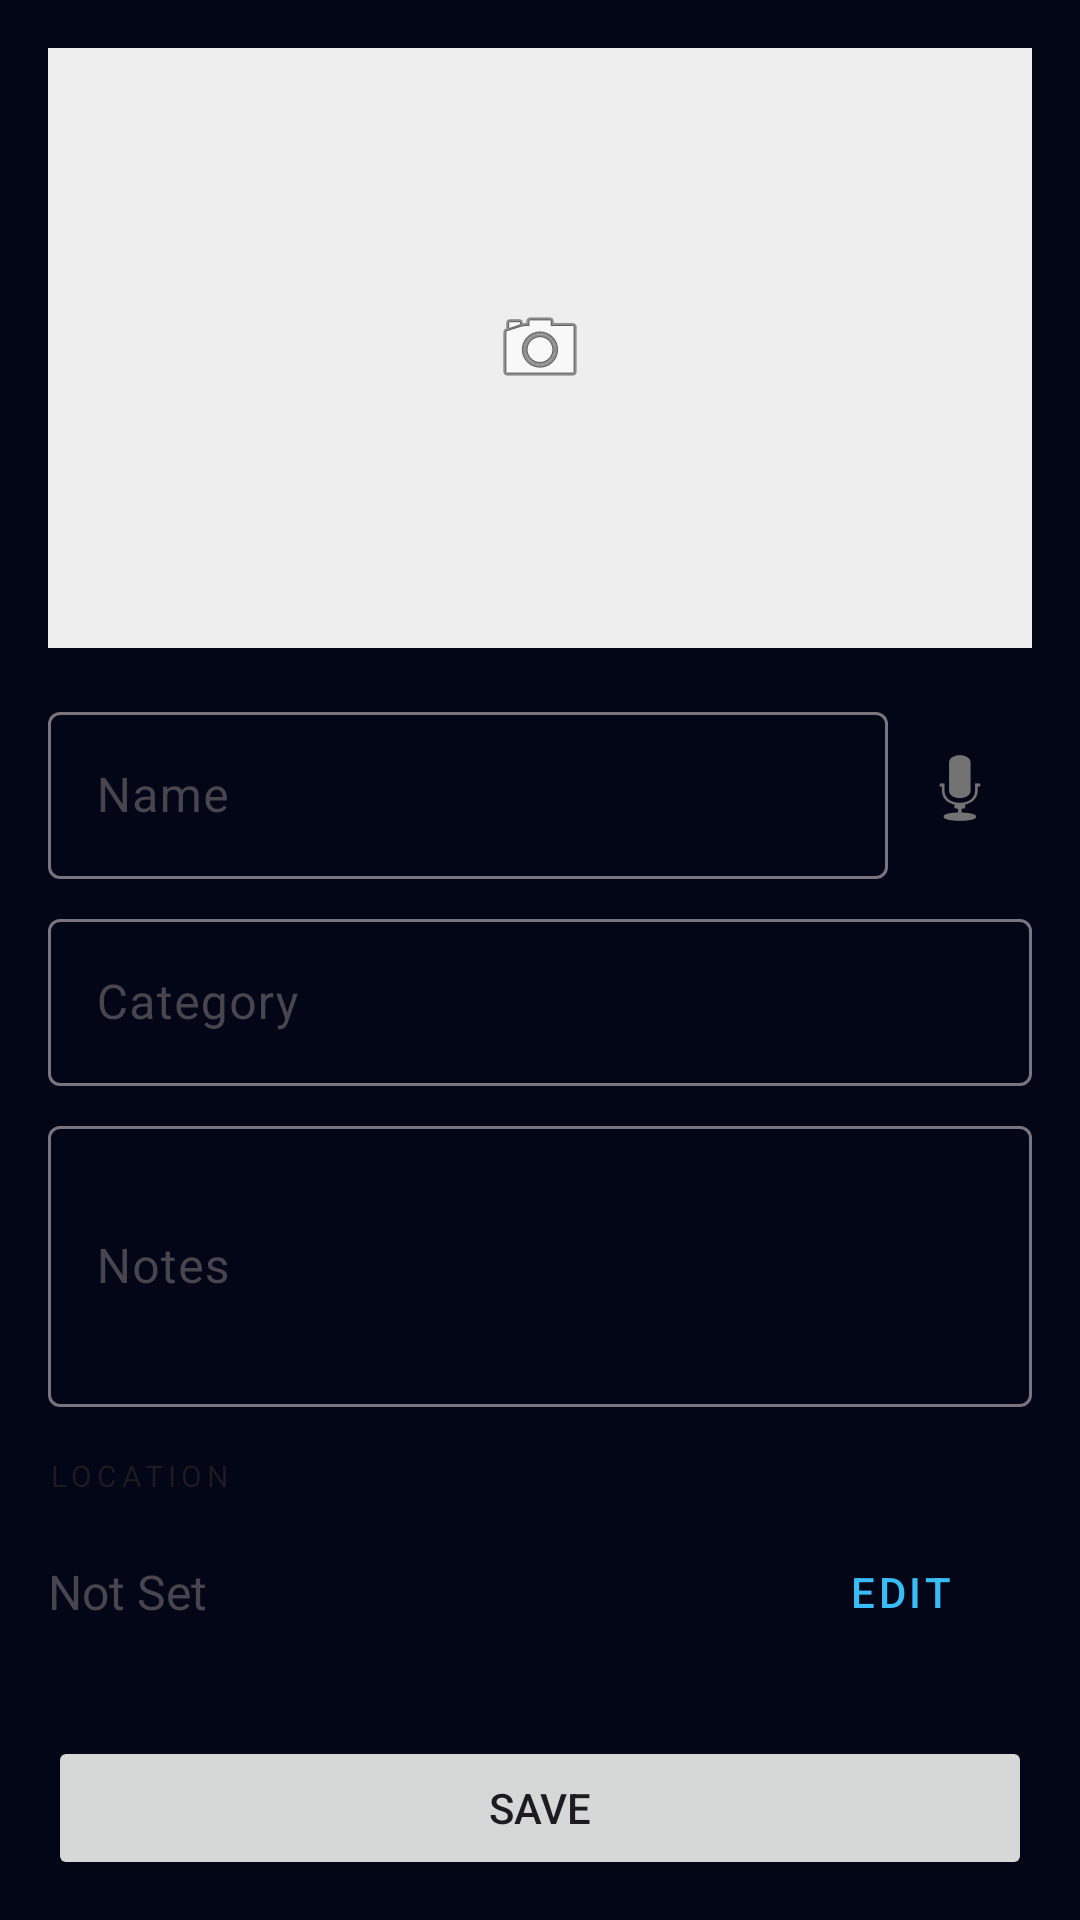

Icon bounding boxes for this 1080px×1920px phone screenshot, format (x1, y1, x2, y2):
Speech Input: (939, 755, 981, 821)
